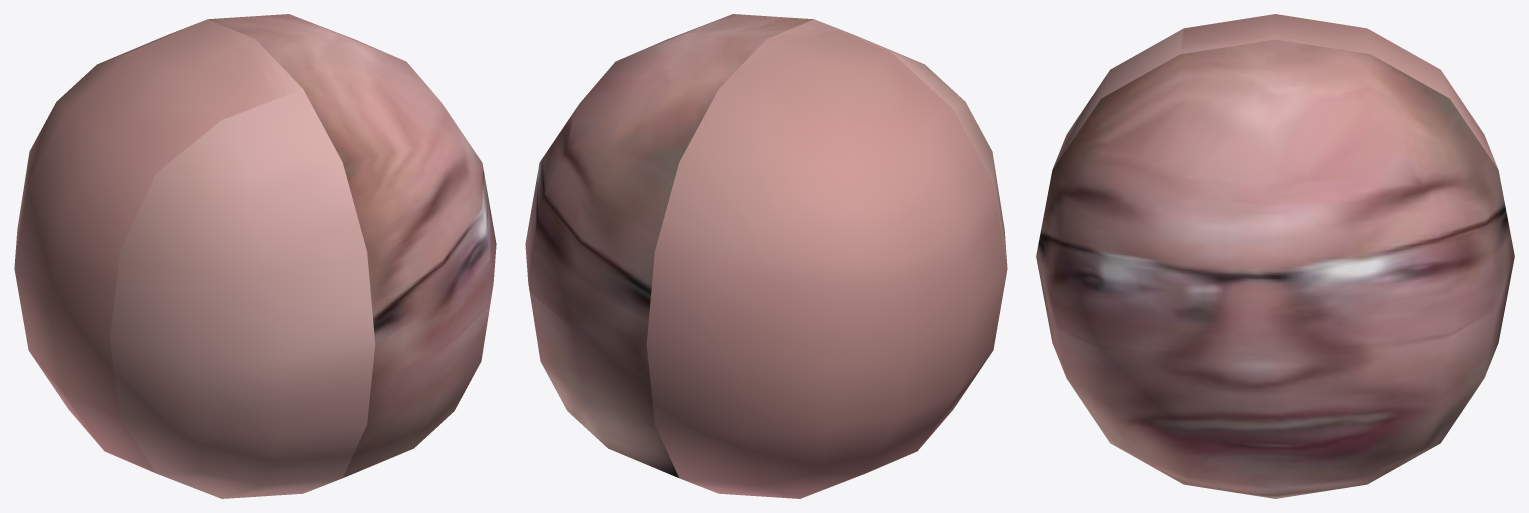
The model's file is Remo.fbx.
The picture shows the model from 3 angles, left to right: view 1: azimuth 30°, elevation 25°; view 2: azimuth 150°, elevation 25°; view 3: azimuth 270°, elevation 25°; orthographic projection.
Parts seen in each view (by area): view 1: Cube.005; view 2: Cube.005; view 3: Cube.005.
Part boxes in pixels (bbox=[...]): Cube.005: bbox=[14, 14, 496, 498]; Cube.005: bbox=[525, 14, 1007, 498]; Cube.005: bbox=[1036, 14, 1514, 498].
Size of the model in its own units: 602 by 602 by 602.
